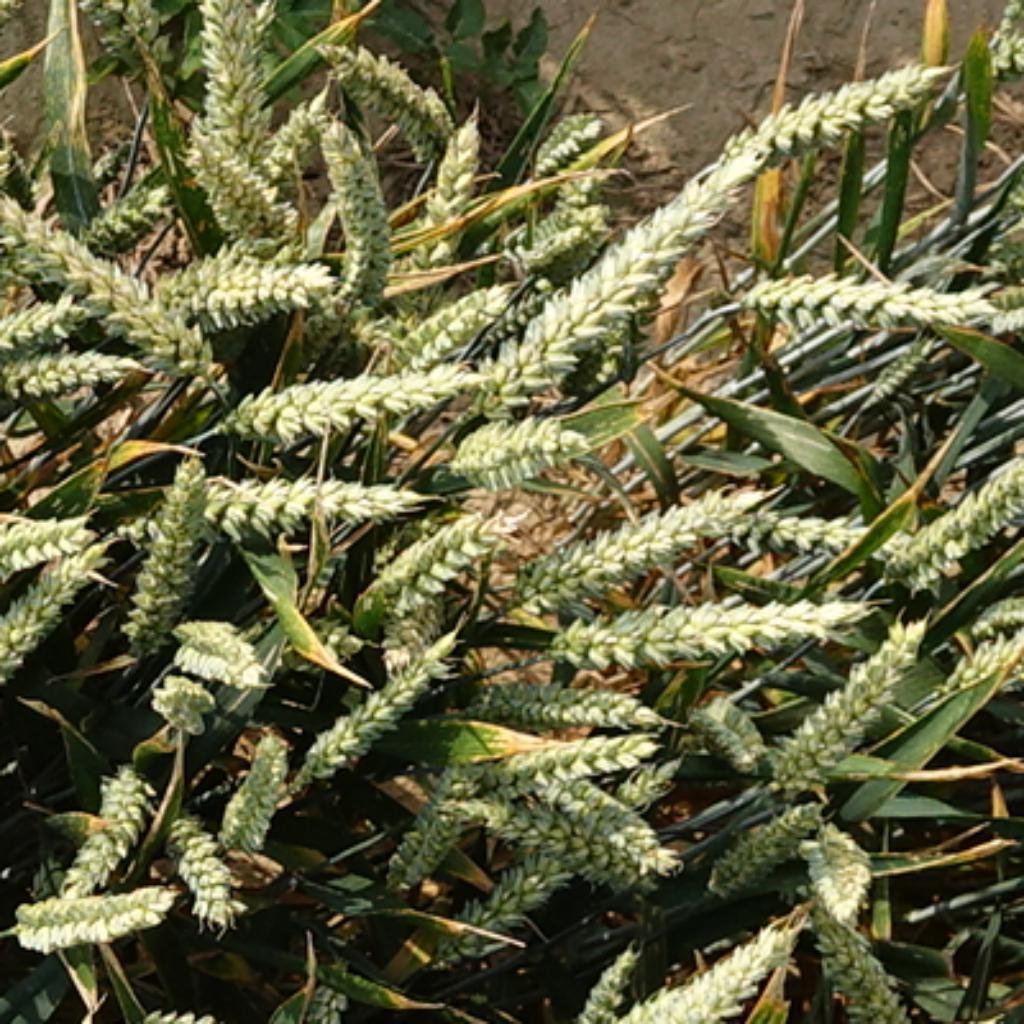0-0: (491, 148, 757, 381), (0, 177, 220, 384), (762, 614, 949, 791), (514, 481, 783, 591), (535, 578, 849, 670), (711, 56, 952, 174), (742, 250, 990, 353), (360, 494, 522, 647), (125, 473, 427, 550), (417, 832, 578, 972), (296, 640, 455, 780), (220, 371, 499, 448), (512, 762, 691, 880), (581, 924, 785, 1024), (885, 440, 1024, 586), (122, 455, 225, 645), (471, 778, 650, 885), (198, 0, 290, 196), (151, 238, 340, 332), (310, 41, 456, 159), (0, 547, 104, 701), (58, 750, 158, 906), (798, 901, 916, 1024), (314, 117, 399, 284), (606, 504, 855, 560), (381, 266, 512, 366), (189, 125, 294, 245), (706, 796, 826, 896), (7, 883, 171, 954), (440, 401, 591, 478), (468, 665, 645, 727), (381, 778, 478, 885), (422, 99, 481, 273), (0, 345, 156, 408), (501, 194, 614, 276), (217, 727, 294, 847), (62, 175, 170, 254), (163, 816, 240, 924), (798, 816, 875, 919), (66, 2, 184, 66), (0, 501, 94, 581), (499, 729, 657, 775), (376, 568, 440, 680), (168, 606, 263, 680), (683, 691, 768, 770), (862, 327, 947, 404), (565, 947, 640, 1024), (527, 97, 604, 168), (0, 299, 81, 366), (949, 632, 1024, 696), (980, 0, 1024, 103), (145, 668, 215, 732), (558, 161, 622, 199), (980, 284, 1024, 337), (960, 599, 1024, 634), (793, 1016, 1000, 1024)
